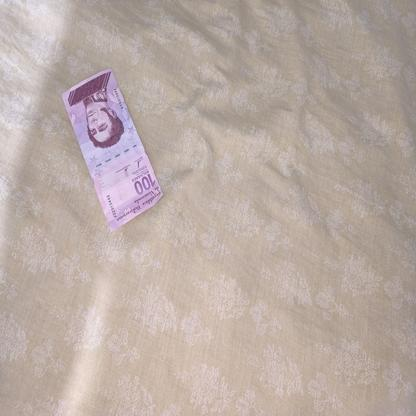one_hundred-front-vef: (60, 66, 162, 233)
